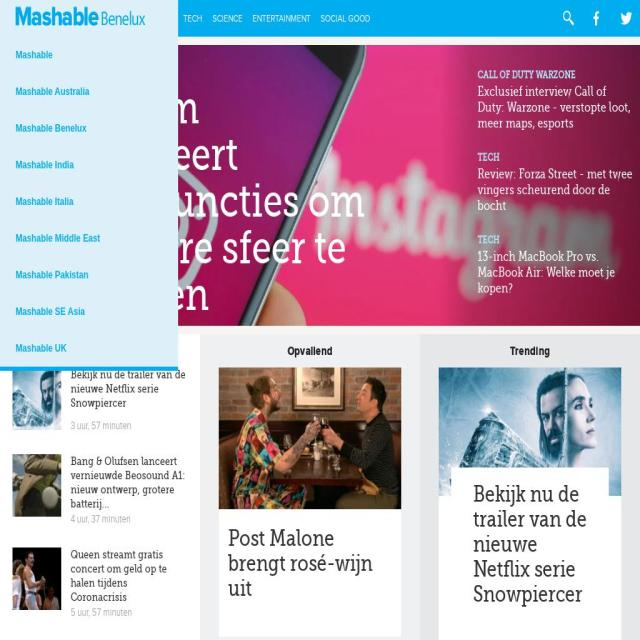button: (22, 70, 366, 318), (219, 368, 401, 514), (439, 368, 621, 500), (463, 481, 602, 607), (219, 525, 401, 601), (478, 70, 634, 132), (478, 235, 634, 297), (478, 153, 634, 214), (70, 454, 186, 511), (70, 548, 186, 604), (70, 368, 186, 418), (248, 0, 316, 37), (316, 0, 375, 37), (16, 12, 162, 24), (208, 0, 248, 37), (178, 0, 208, 37), (13, 418, 68, 432), (13, 512, 68, 525), (13, 605, 68, 618)
image: (0, 45, 640, 326), (219, 368, 401, 509), (439, 367, 621, 496), (12, 454, 62, 517), (12, 368, 62, 430), (12, 548, 62, 610), (16, 7, 162, 26), (582, 0, 610, 37), (612, 0, 640, 37), (562, 0, 574, 37)
link: (16, 232, 100, 244), (16, 268, 88, 281), (15, 85, 90, 97), (16, 122, 86, 134), (16, 305, 85, 317), (16, 158, 74, 171), (16, 195, 73, 207), (15, 342, 66, 354), (15, 48, 52, 61)
text: (22, 81, 365, 321), (200, 334, 420, 368), (420, 334, 640, 368), (478, 84, 630, 131), (478, 167, 632, 213), (0, 334, 200, 368), (477, 249, 615, 296), (22, 70, 366, 80), (70, 511, 186, 527), (70, 604, 186, 620), (70, 418, 186, 433), (478, 70, 634, 80), (478, 152, 634, 162), (478, 235, 634, 245)
